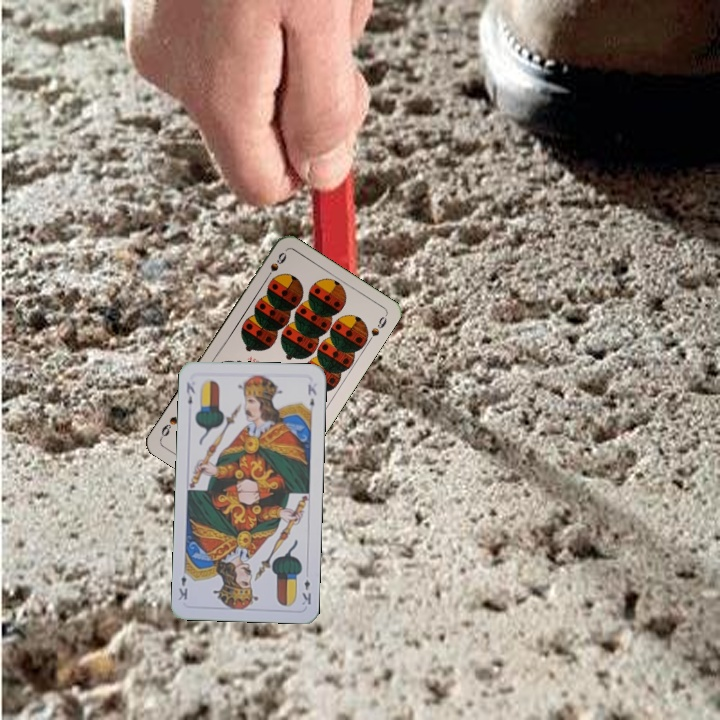EK: (298, 575, 314, 607), (182, 378, 197, 407)
S9: (261, 248, 289, 284)
